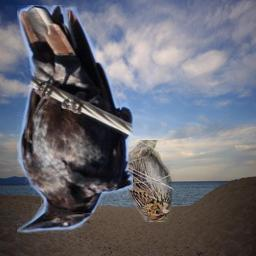Crow: (17, 5, 133, 234)
Sparrow: (88, 140, 174, 222)
